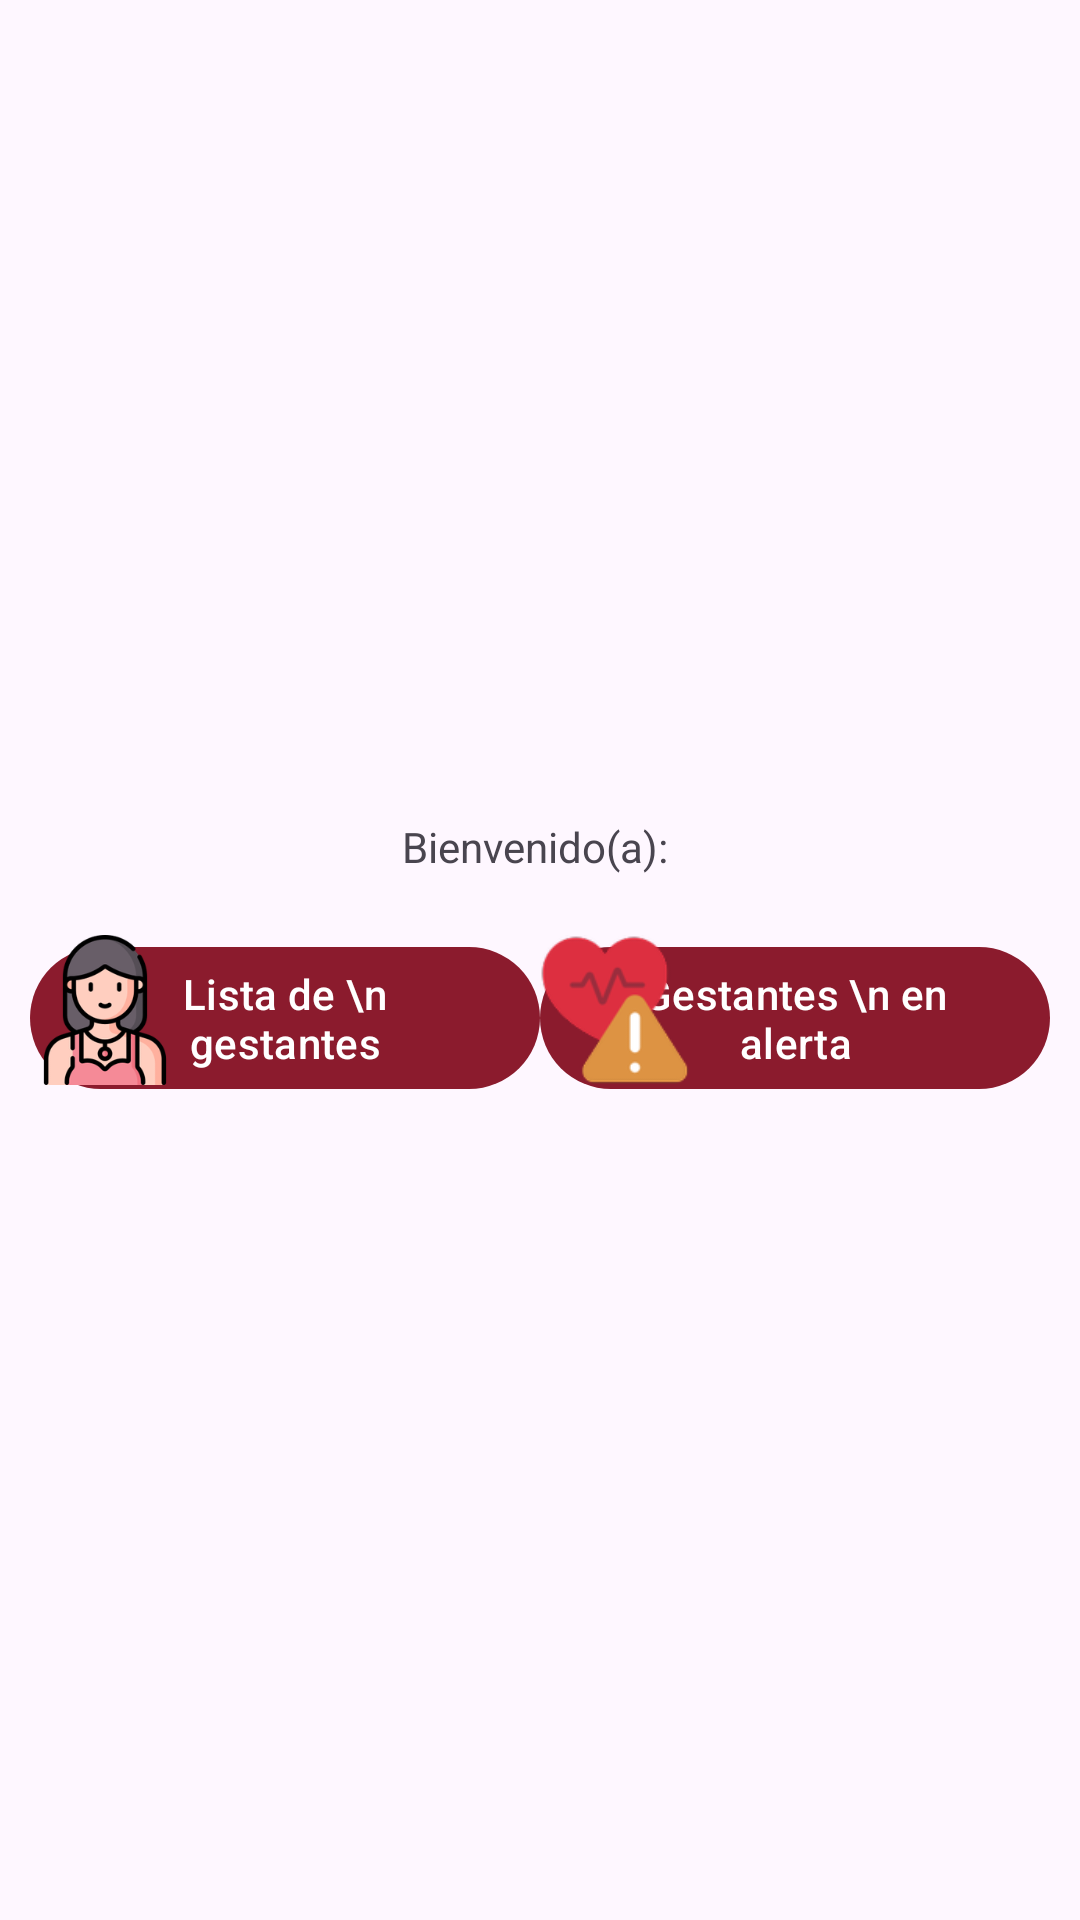

Named icons in this screenshot (1080px x 1920px) and their centers, (x=x, y=y):
actriz: (x=105, y=1010)
riesgos: (x=615, y=1010)
